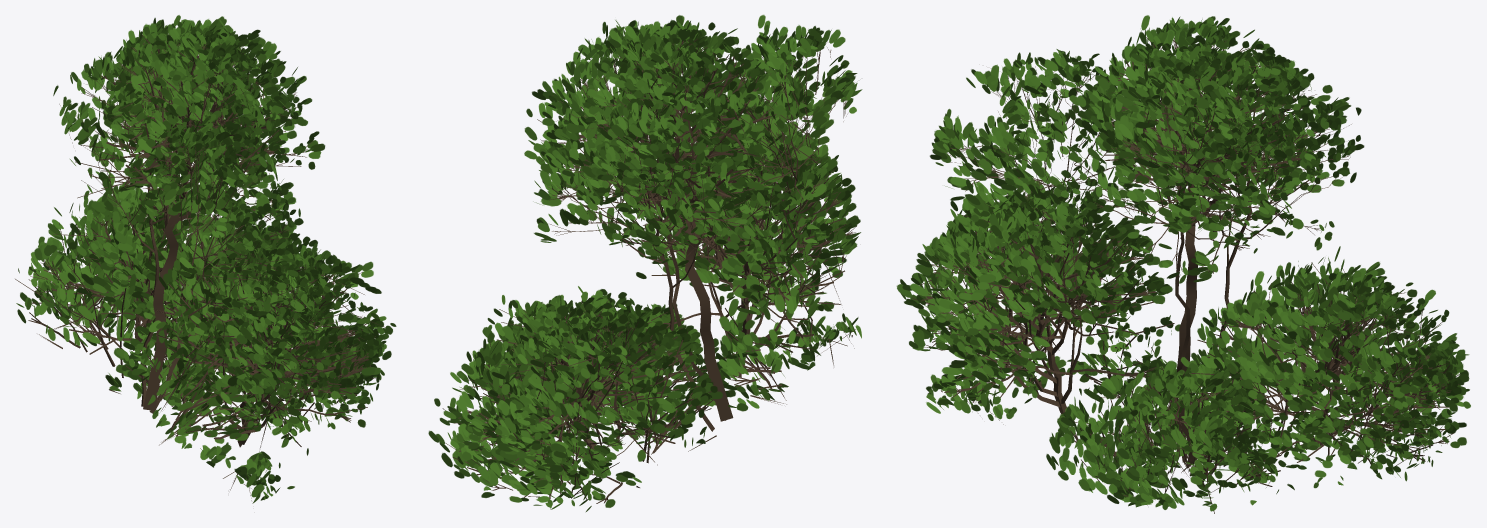
3 views of the same model, side by side, from view 1: azimuth 30°, elevation 25°; view 2: azimuth 150°, elevation 25°; view 3: azimuth 270°, elevation 25° (orthographic). The views are drawn at different scales.
Parts seen in each view (by area): view 1: oak 01.001_trunk_Mat.001_0.373; view 2: oak 01.001_trunk_Mat.001_0.373; view 3: oak 01.001_trunk_Mat.001_0.373.
Boxes of the visible parts, x1,y1,x2,y2 form: oak 01.001_trunk_Mat.001_0.373: [15, 15, 396, 503]; oak 01.001_trunk_Mat.001_0.373: [428, 14, 862, 512]; oak 01.001_trunk_Mat.001_0.373: [896, 15, 1470, 513].
Size of the model in its own units: 2.18 by 3.11 by 3.88.
Materials: 2 (1 with a texture image).
